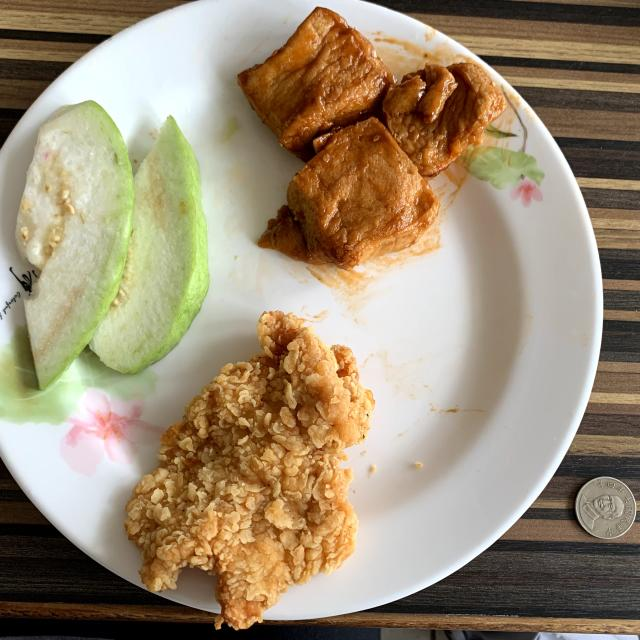coin: (575, 476, 636, 540)
creamy tofu: (238, 8, 505, 269)
fried chicken cutlet: (125, 311, 374, 629)
guava -sliced-: (16, 101, 209, 389)
